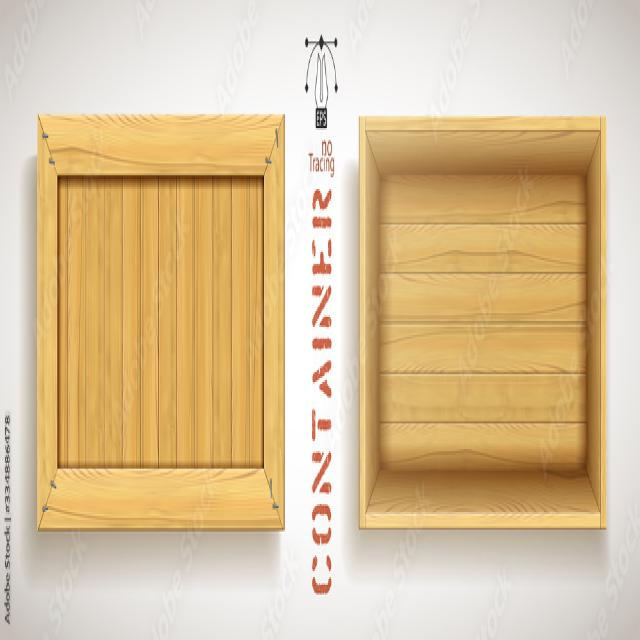box: (37, 111, 284, 534), (356, 116, 610, 522)
